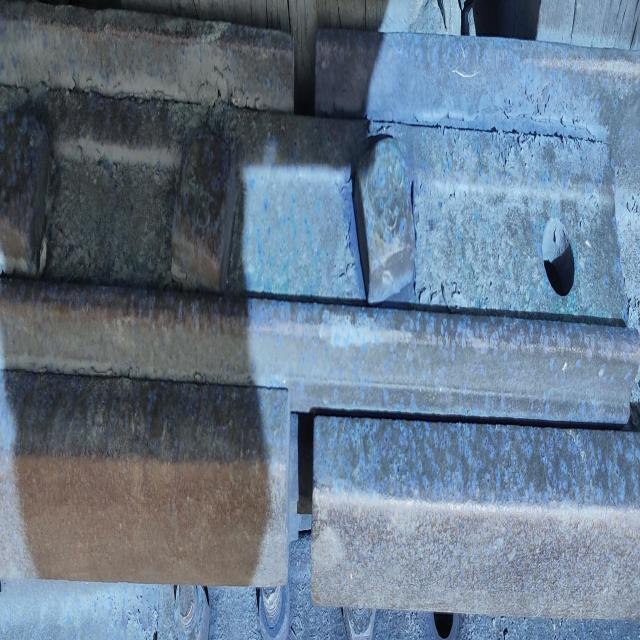Defective Joint: (0, 2, 640, 425)
